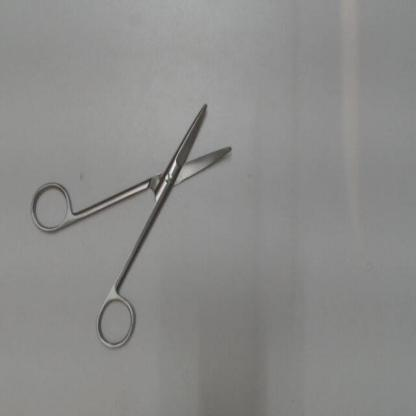Curved Mayo Scissors: (26, 90, 239, 354)
